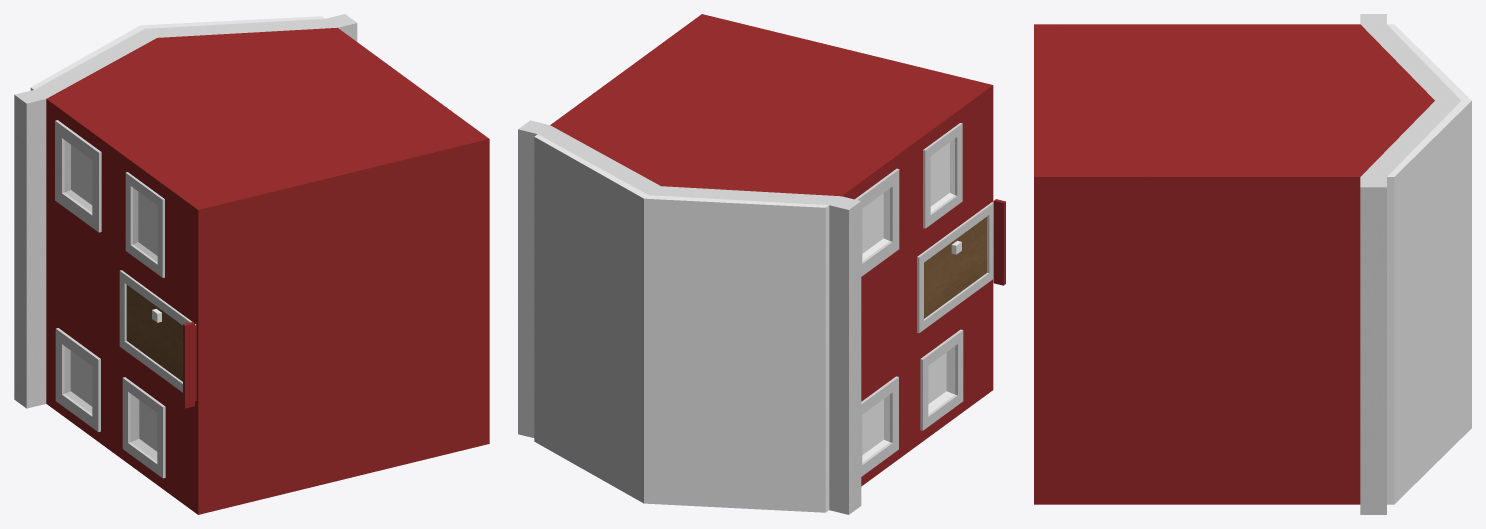
File: venice_murano_2.fbx
The picture shows the model from 3 angles, left to right: view 1: azimuth 30°, elevation 25°; view 2: azimuth 150°, elevation 25°; view 3: azimuth 270°, elevation 25°; orthographic projection. The views are drawn at different scales.
Parts seen in each view (by area): view 1: Cube.344; view 2: Cube.344; view 3: Cube.344.
Boxes of the visible parts, x1,y1,x2,y2 form: Cube.344: [14, 14, 489, 514]; Cube.344: [518, 14, 1005, 514]; Cube.344: [1034, 14, 1471, 514].
Size of the model in its own units: 897 by 790 by 956.
